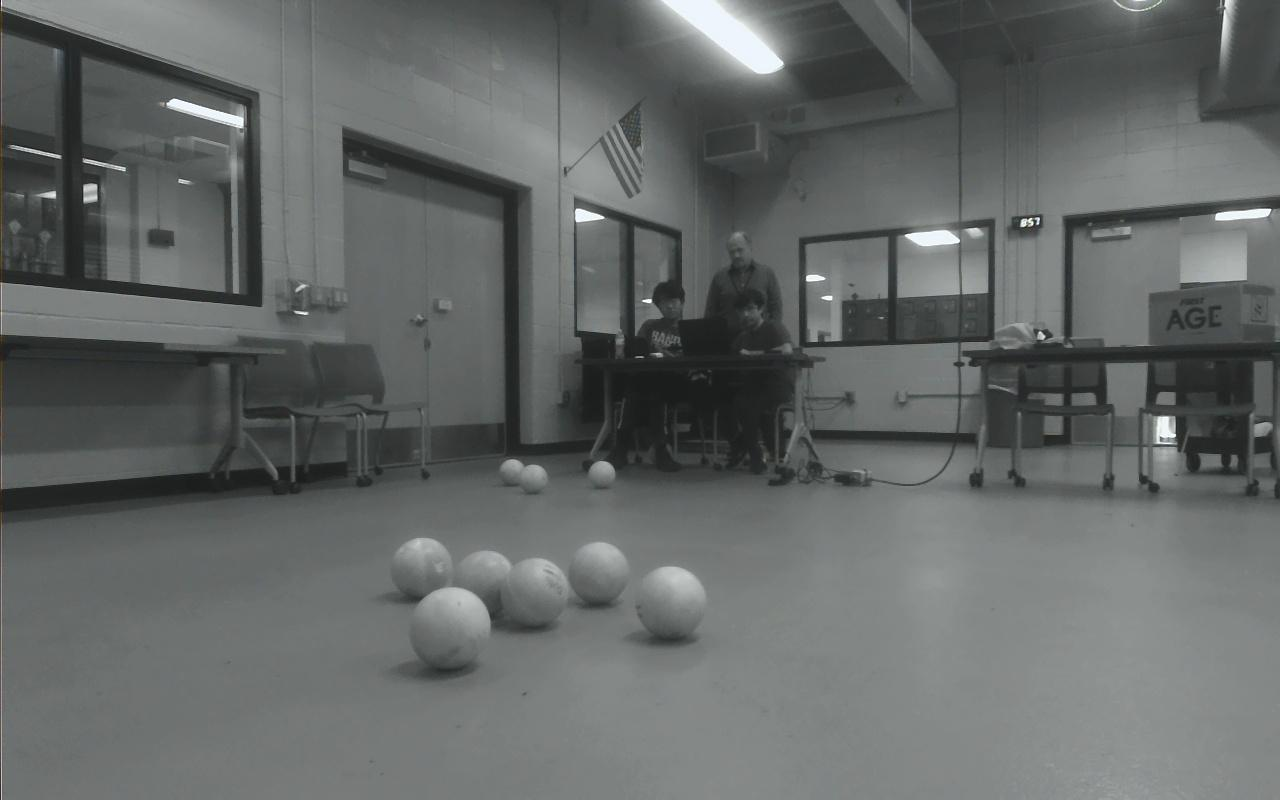Fuel: (408, 587, 492, 671), (635, 566, 705, 640), (500, 557, 570, 628), (452, 549, 513, 615), (390, 537, 452, 599), (568, 541, 628, 605), (520, 464, 548, 494), (588, 460, 616, 489), (498, 459, 525, 486)
